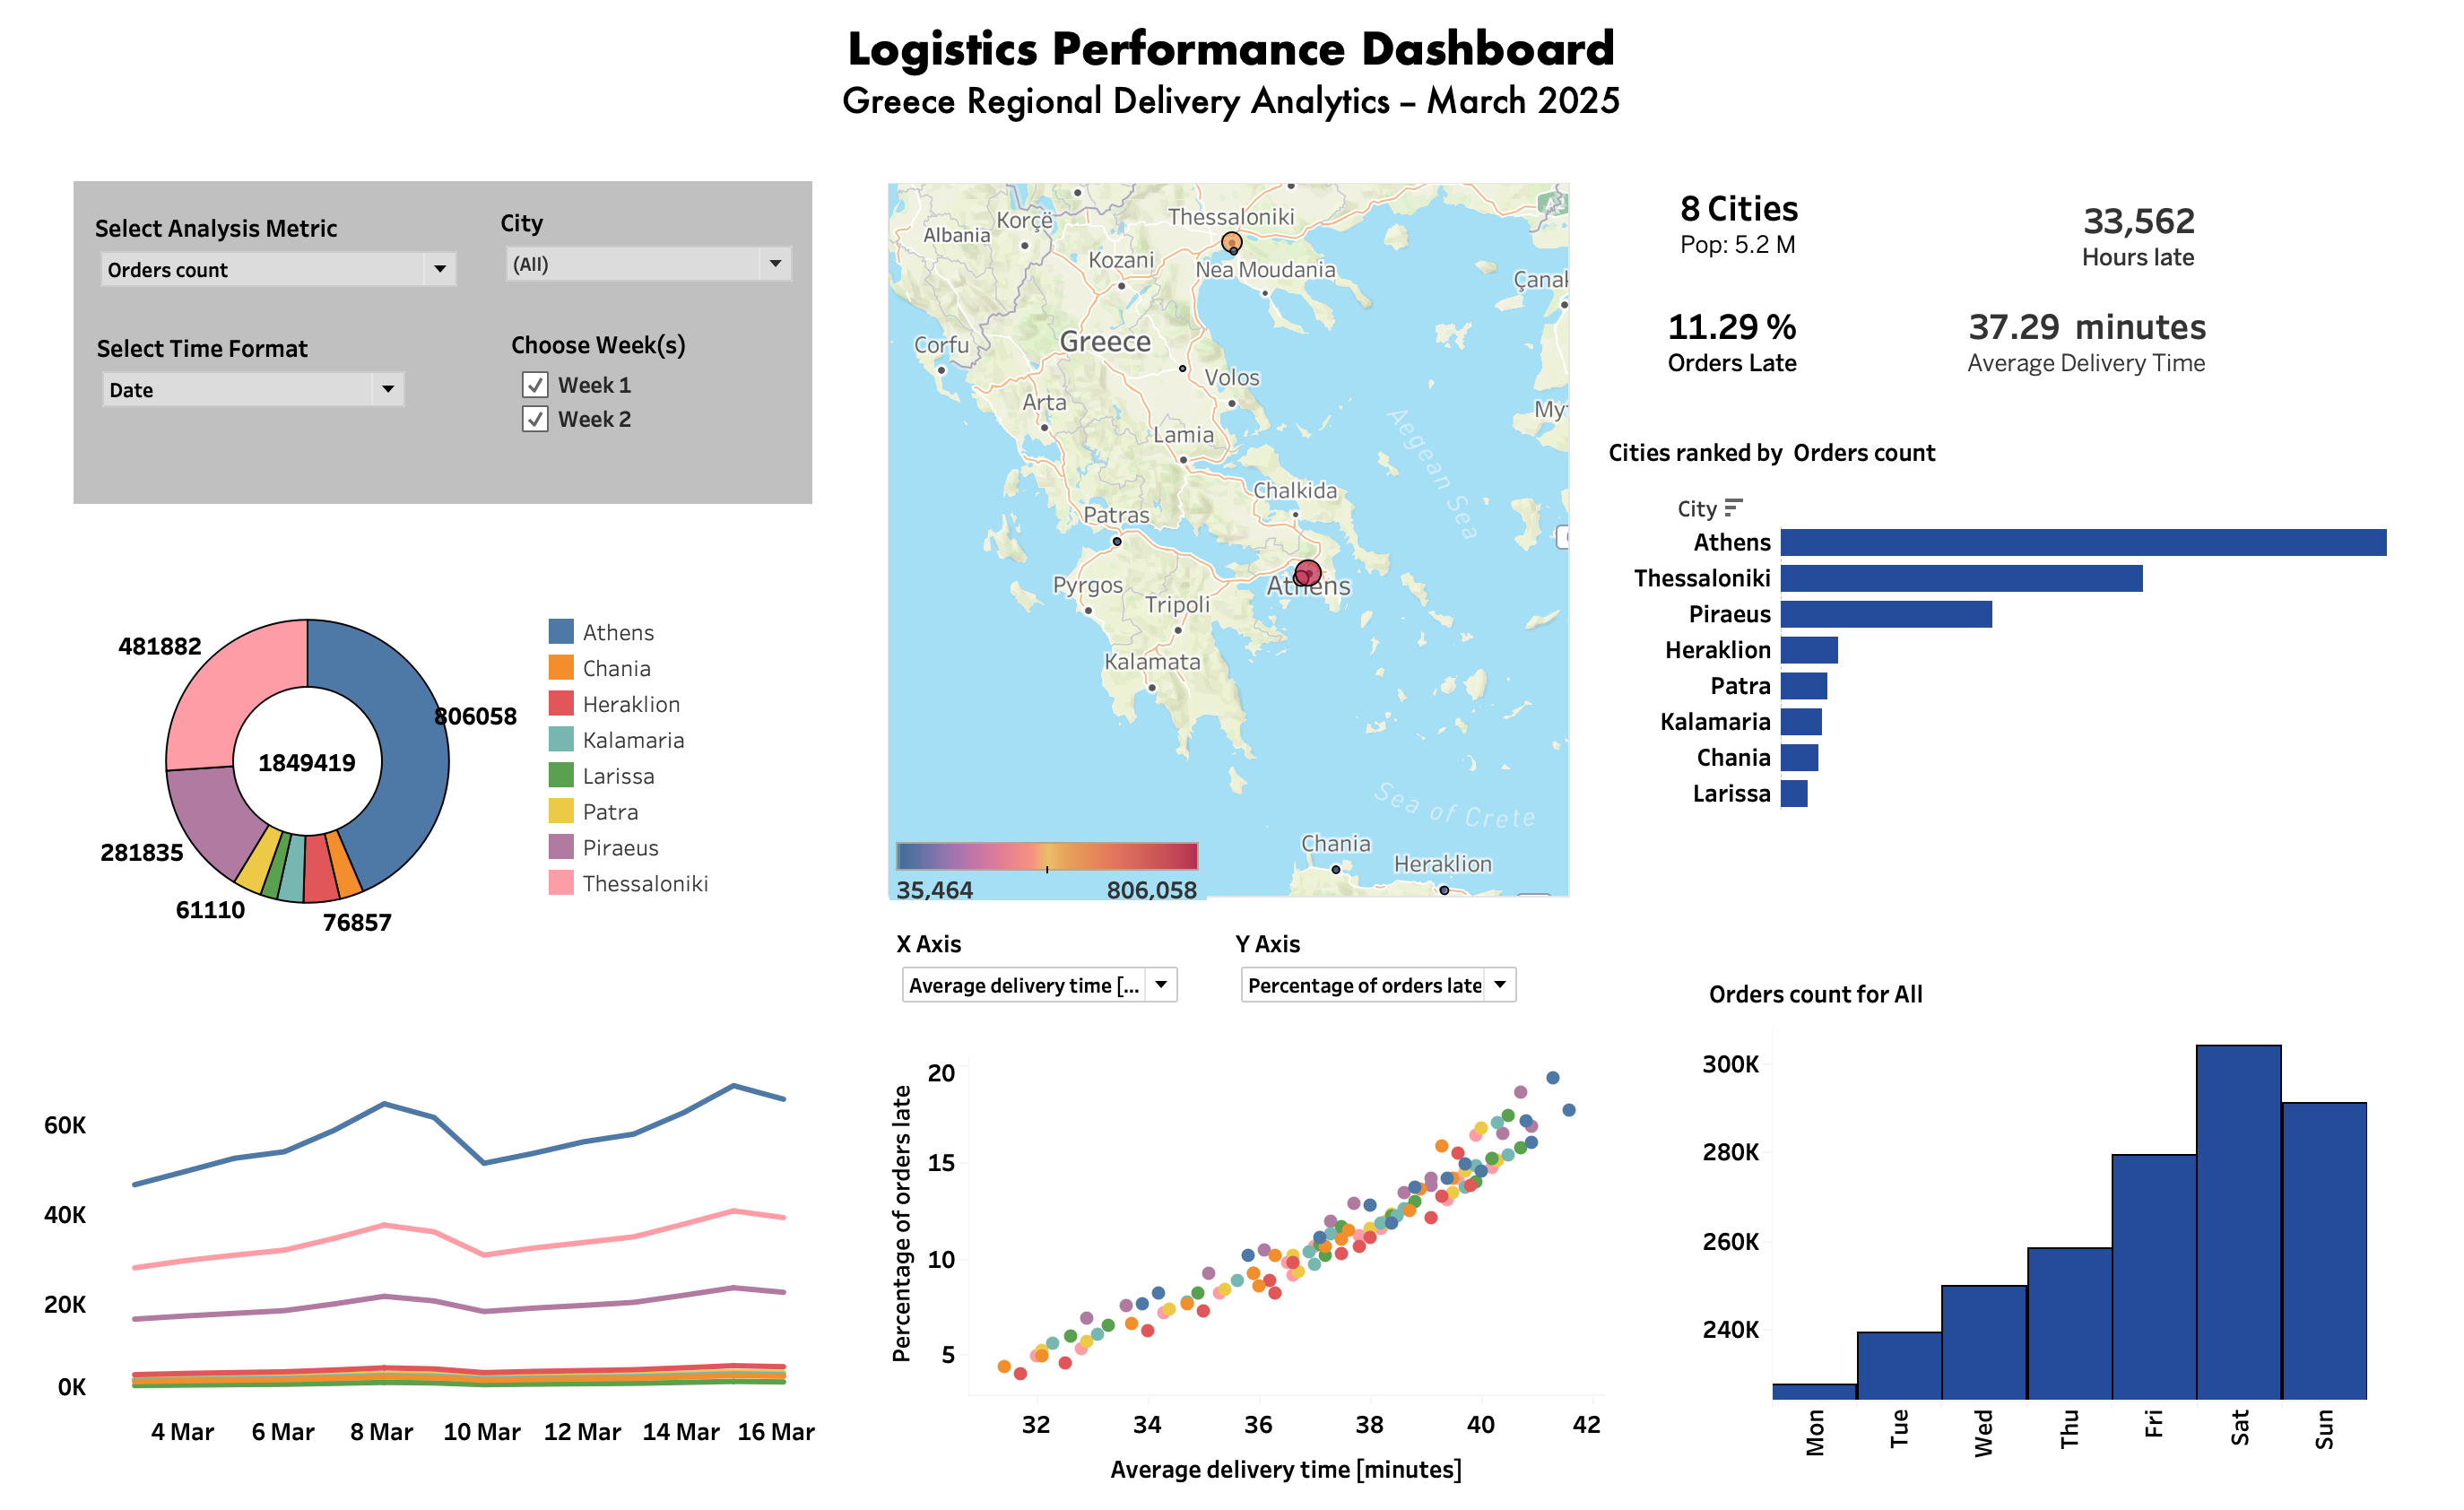

The dashboard page shown, as its layout file describes it:
{"tool":"tableau","page":{"name":"Dashboard 1","canvas":[1400,900],"ordinal":0},"visuals":[{"type":"text","box":[373,10,658,92]},{"type":"blank","box":[56,117,412,180]},{"type":"worksheet","title":"Map","mark":"Automatic","rows":["Latitude"],"cols":["Longitude"],"box":[510,118,381,399]},{"type":"worksheet","title":"KPI1","mark":"Automatic","box":[948,119,211,83]},{"type":"worksheet","title":"KPI2","mark":"Automatic","box":[1164,126,129,77]},{"type":"filter","title":"Donut","param":"[federated.0vqtvfd0nm806n1edv1rs08q3tt1].[none:City:nk]","box":[294,131,166,68]},{"type":"parameter","param":"[Parameters].[Parameter 1]","box":[68,134,205,98]},{"type":"worksheet","title":"KPI3","mark":"Automatic","box":[932,185,172,77]},{"type":"worksheet","title":"KPI4","mark":"Automatic","box":[1090,185,226,57]},{"type":"filter","title":"Donut","param":"[federated.0vqtvfd0nm806n1edv1rs08q3tt1].[none:Week Label:nk]","box":[300,199,143,81]},{"type":"parameter","param":"[Parameters].[Parameter 2]","box":[69,201,175,51]},{"type":"worksheet","title":"Ranking","mark":"Automatic","rows":["City"],"cols":["Calculation_635289027400724482"],"box":[908,255,455,245]},{"type":"worksheet","title":"Donut","mark":"Pie","rows":["Calculation_635289027412283397","Calculation_635289027412283397"],"box":[26,320,279,241]},{"type":"legend","title":"Date Plot","param":"[federated.0vqtvfd0nm806n1edv1rs08q3tt1].[none:City:nk]","box":[318,339,159,201]},{"type":"legend","title":"Map","param":"[federated.0vqtvfd0nm806n1edv1rs08q3tt1].[usr:Calculation_635289027400724482:qk]","box":[511,463,177,55]},{"type":"parameter","param":"[Parameters].[Parameter 3]","box":[515,533,160,45]},{"type":"parameter","param":"[Parameters].[X Axis Metric (copy)_432486309626028037]","box":[704,533,160,45]},{"type":"worksheet","title":"Weekly Bars","mark":"Bar","rows":["Calculation_635289027400724482"],"cols":["Calculation_3704210700808613888"],"box":[964,557,371,279]},{"type":"worksheet","title":"Date Plot","mark":"Line","rows":["Calculation_635289027400724482"],"cols":["Date"],"box":[39,578,432,250]},{"type":"worksheet","title":"Day Plot","mark":"Line","rows":["Calculation_635289027400724482"],"cols":["Calculation_5426415346092658690"],"box":[40,601,437,227]},{"type":"worksheet","title":"Correlations","mark":"Automatic","rows":["X Metric Selector (copy)_432486309626150918"],"cols":["Calculation_432486309625122820"],"box":[501,605,409,246]}]}

Visuals, with their boxes on the page's 1400x900 design canvas (x1, y1, x2, y2). These are canvas units, not pixel positions in the 2464x1510 screenshot, which may show the page scaled, cropped or inside an application window:
text: (373,10,1031,102)
blank: (56,117,468,297)
"Map" worksheet: (510,118,891,517)
"KPI1" worksheet: (948,119,1159,202)
"KPI2" worksheet: (1164,126,1293,203)
"Donut" filter: (294,131,460,199)
parameter: (68,134,273,232)
"KPI3" worksheet: (932,185,1104,262)
"KPI4" worksheet: (1090,185,1316,242)
"Donut" filter: (300,199,443,280)
parameter: (69,201,244,252)
"Ranking" worksheet: (908,255,1363,500)
"Donut" worksheet (Pie marks): (26,320,305,561)
"Date Plot" legend: (318,339,477,540)
"Map" legend: (511,463,688,518)
parameter: (515,533,675,578)
parameter: (704,533,864,578)
"Weekly Bars" worksheet (Bar marks): (964,557,1335,836)
"Date Plot" worksheet (Line marks): (39,578,471,828)
"Day Plot" worksheet (Line marks): (40,601,477,828)
"Correlations" worksheet: (501,605,910,851)
